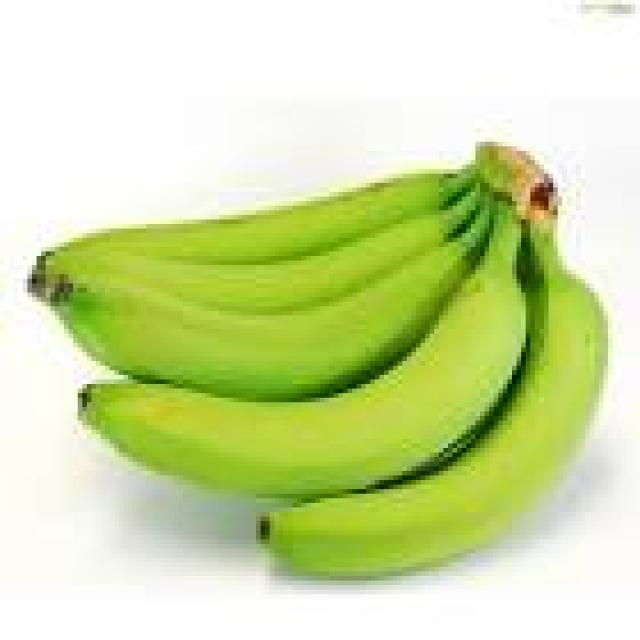banana: (83, 215, 525, 498), (261, 220, 607, 575), (55, 211, 489, 397), (37, 188, 479, 310), (74, 165, 475, 265)
